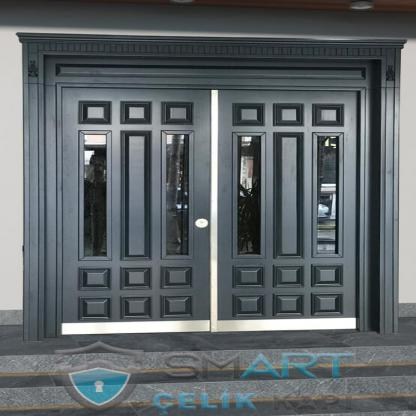door: (56, 83, 209, 331)
